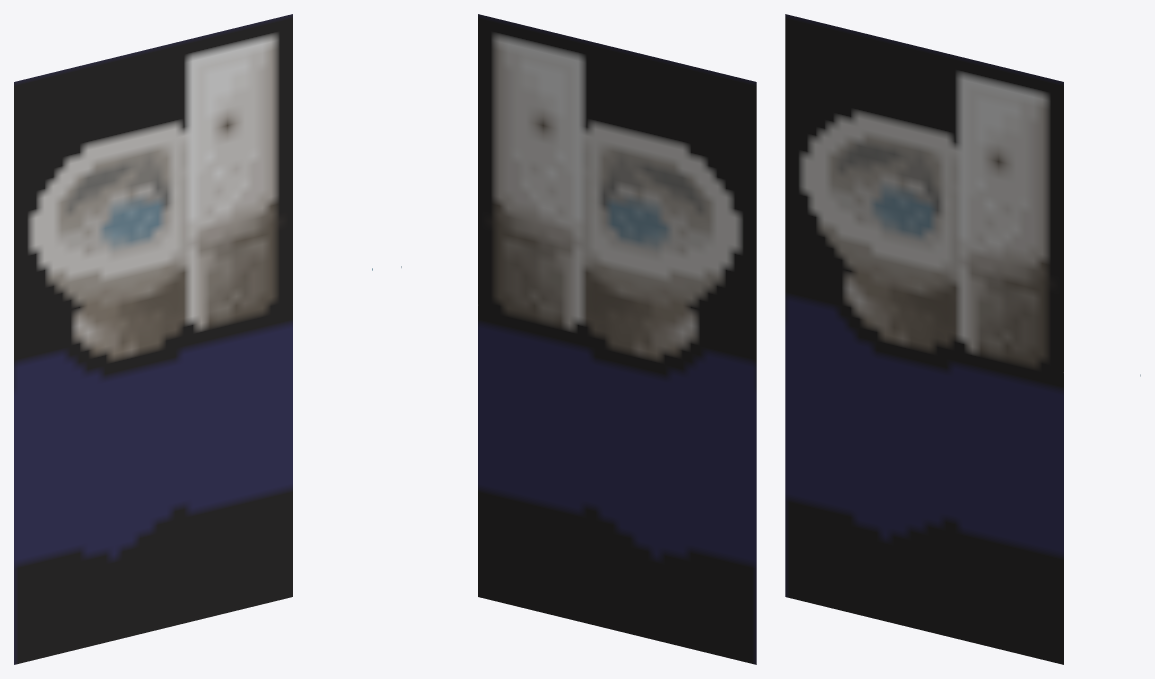
File: Toilet_Right.glb
The picture shows the model from 3 angles, left to right: view 1: azimuth 30°, elevation 25°; view 2: azimuth 150°, elevation 25°; view 3: azimuth 330°, elevation 25°; orthographic projection.
Parts seen in each view (by area): view 1: pPlane1; view 2: pPlane1; view 3: pPlane1.
Part boxes in pixels (x1=…): pPlane1: x1=14, y1=14, x2=292, y2=664; pPlane1: x1=478, y1=14, x2=756, y2=664; pPlane1: x1=785, y1=14, x2=1063, y2=664.
Bounding box in the file's own units: 1.28 × 2 × 0.01.
2 materials, 2 textured.
